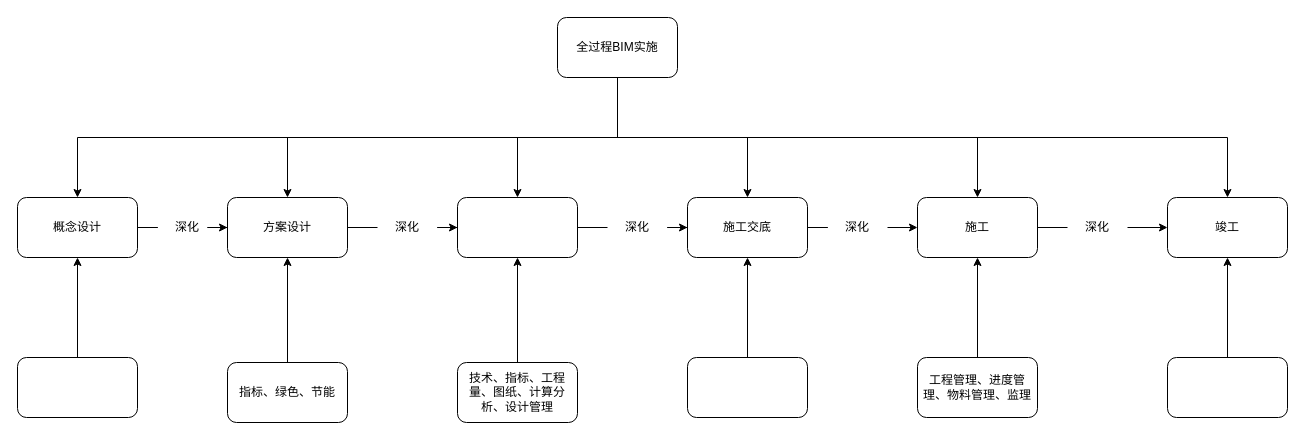
The diagram is 1305 pixels wide and 440 high, and some of its shapes have lost their labels. Each missing label, with the centre of its shape:
"GIS数据融合、气象、地理位置、地勘等" belongs at point 77,387.
"可视化、仿真" belongs at point 747,387.
"施工图设计" belongs at point 517,227.
"辅助验收" belongs at point 1227,387.
